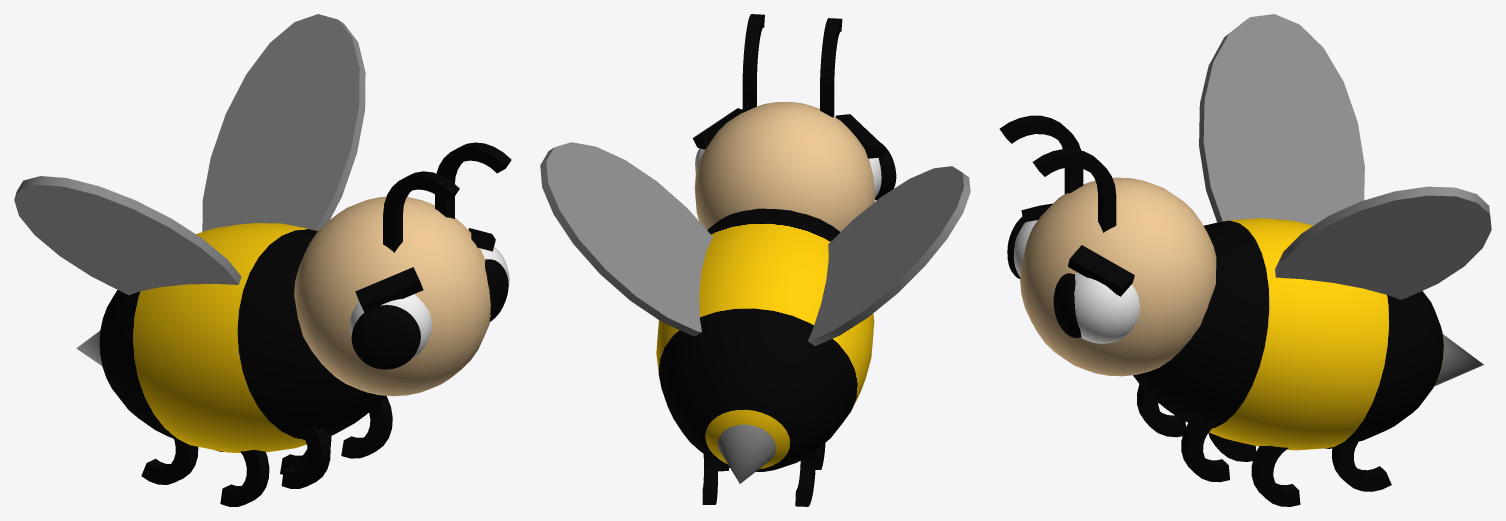
The picture shows the model from 3 angles, left to right: view 1: azimuth 30°, elevation 25°; view 2: azimuth 150°, elevation 25°; view 3: azimuth 270°, elevation 25°; orthographic projection. The views are drawn at different scales.
Parts seen in each view (by area): view 1: Sphere, Left_Wing, Head, Right_Wing, pCube1, Left_Eye, pCube3, pasted__pCube3, pCube2, Eyes, pasted__pasted__pCube3, pasted__pSphere4; view 2: Sphere, Left_Wing, Head, Right_Wing, pCube1, Stinger, pasted__pasted__pCube3, pCube2, Left_Eye; view 3: Sphere, Right_Wing, Head, Left_Wing, pCube1, Eyes, pCube3, pasted__pCube3, pCube2, pasted__pasted__pCube3, pasted__pSphere4, Stinger.
Part boxes in pixels (left/top/right/bottom): Sphere: left=99, top=223, right=385, bottom=452; Left_Wing: left=202, top=14, right=365, bottom=231; Head: left=294, top=196, right=490, bottom=396; Right_Wing: left=14, top=176, right=241, bottom=295; pCube1: left=383, top=142, right=511, bottom=252; Left_Eye: left=351, top=305, right=420, bottom=369; pCube3: left=281, top=396, right=392, bottom=488; pasted__pCube3: left=220, top=436, right=331, bottom=506; pCube2: left=355, top=228, right=495, bottom=312; Eyes: left=350, top=246, right=509, bottom=358; pasted__pasted__pCube3: left=141, top=439, right=223, bottom=484; pasted__pSphere4: left=485, top=259, right=508, bottom=321; Sphere: left=656, top=208, right=874, bottom=471; Left_Wing: left=540, top=142, right=712, bottom=335; Head: left=694, top=102, right=874, bottom=231; Right_Wing: left=808, top=166, right=970, bottom=345; pCube1: left=742, top=14, right=842, bottom=117; Stinger: left=717, top=424, right=776, bottom=483; pasted__pasted__pCube3: left=702, top=450, right=815, bottom=506; pCube2: left=692, top=108, right=886, bottom=158; Left_Eye: left=875, top=143, right=896, bottom=200; Sphere: left=1133, top=218, right=1443, bottom=450; Right_Wing: left=1199, top=14, right=1364, bottom=225; Head: left=1020, top=177, right=1216, bottom=376; Left_Wing: left=1275, top=186, right=1491, bottom=299; pCube1: left=999, top=115, right=1116, bottom=232; Eyes: left=1013, top=220, right=1140, bottom=343; pCube3: left=1137, top=384, right=1229, bottom=482; pasted__pCube3: left=1208, top=432, right=1300, bottom=506; pCube2: left=1021, top=203, right=1134, bottom=296; pasted__pasted__pCube3: left=1325, top=440, right=1391, bottom=491; pasted__pSphere4: left=1053, top=273, right=1081, bottom=337; Stinger: left=1434, top=334, right=1483, bottom=386.
Size of the model in its own units: 2.33 by 2.24 by 2.56.
13 materials, 1 textured.
